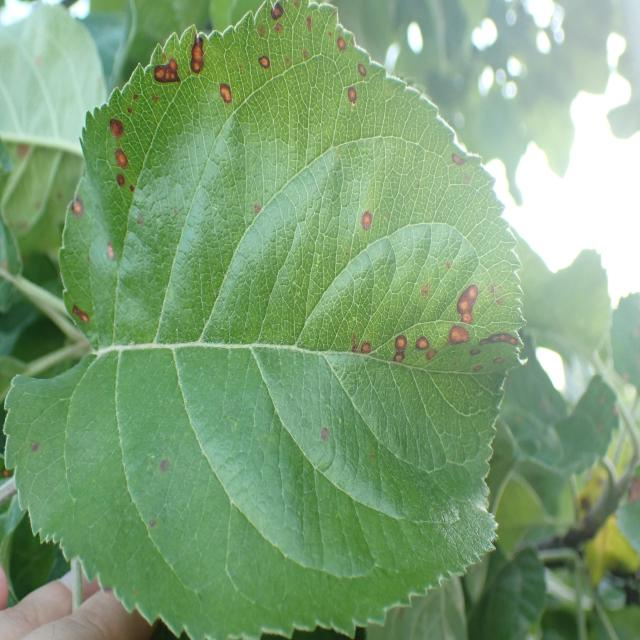Black Rot: (474, 313, 527, 388), (184, 27, 216, 88), (214, 74, 252, 122), (150, 48, 183, 102), (416, 319, 444, 380), (308, 411, 344, 456), (387, 315, 410, 382), (352, 204, 385, 249), (66, 296, 101, 336), (452, 278, 481, 325), (100, 239, 130, 283), (440, 150, 472, 188), (345, 334, 380, 368), (326, 32, 356, 68), (248, 52, 280, 84), (265, 0, 294, 35), (352, 52, 377, 89), (109, 144, 137, 177), (62, 196, 92, 226), (441, 323, 472, 352), (108, 104, 128, 140), (340, 77, 360, 111), (114, 169, 130, 199), (249, 192, 265, 217)
